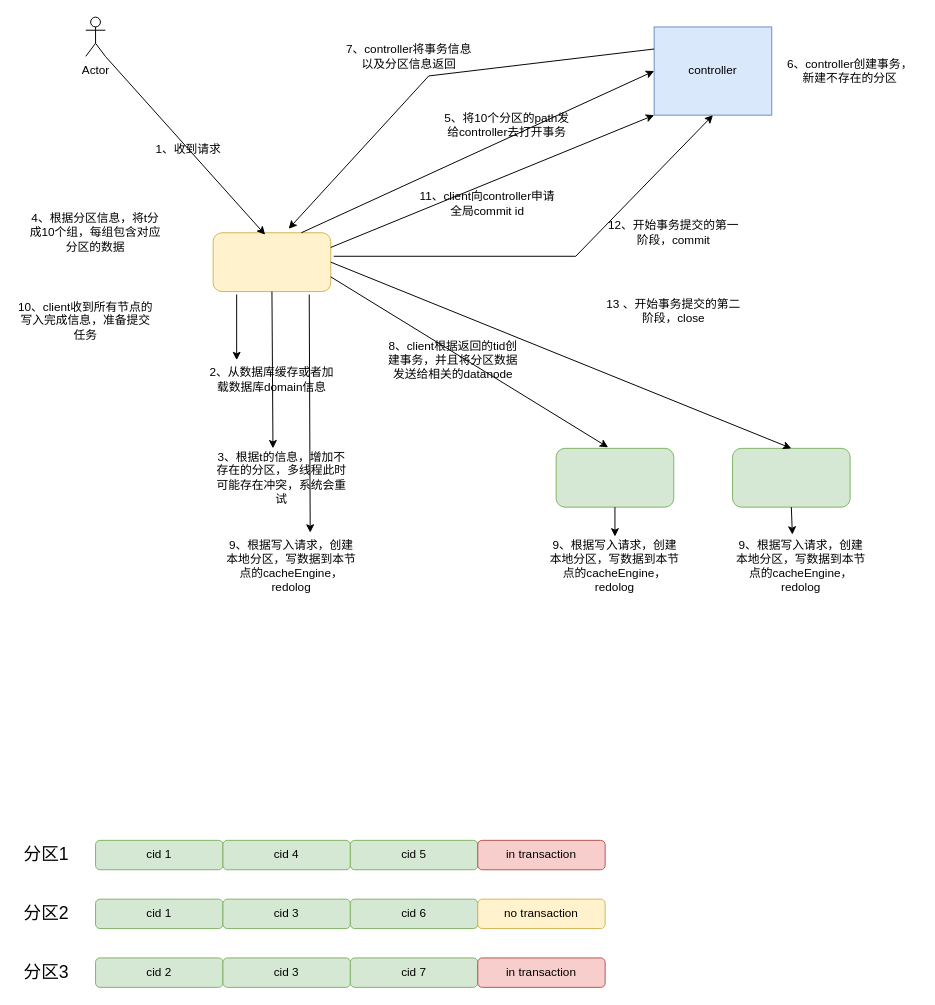
Image size: 935x1005. Some labels were removed from this diagram. The shapes that lost their labels are listed below. From the top down, each one's box as (x1, y1, x2, y2) in pixels, then its label:
(212, 232, 331, 292): DFS client（DN3）
(555, 447, 674, 507): DN1
(732, 447, 850, 507): DN2
